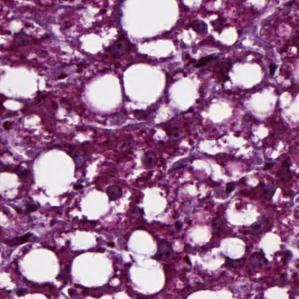steatosis: (32, 152, 72, 195), (71, 249, 115, 286), (123, 63, 166, 100), (85, 73, 124, 111), (19, 249, 62, 283), (228, 58, 264, 86), (80, 188, 108, 218), (219, 234, 248, 259)
